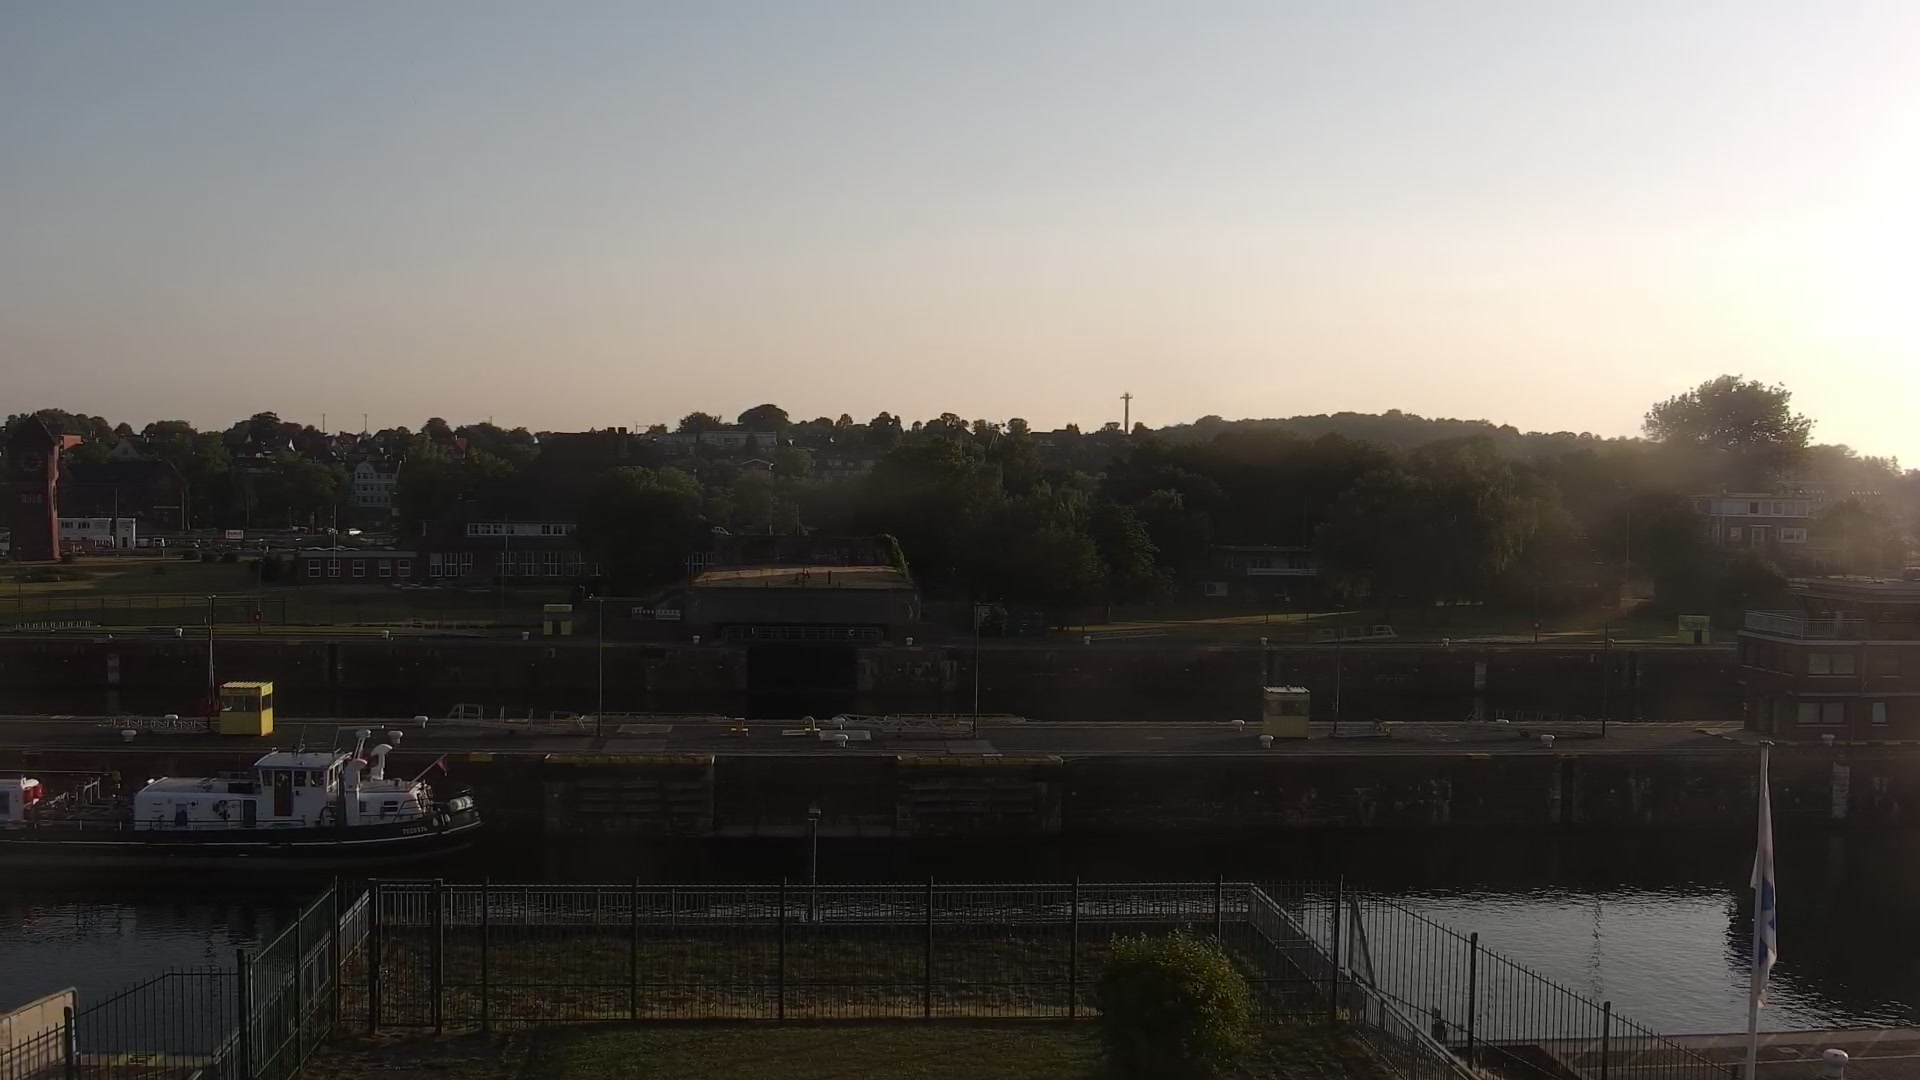human: (1431, 1016, 1446, 1045)
land: (710, 525, 733, 535), (343, 527, 363, 535), (322, 526, 339, 534)
sea: (1, 726, 484, 857)
